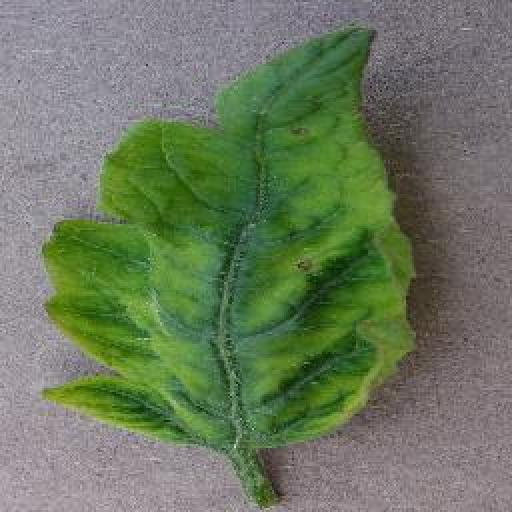Yellow Leaf Curl Virus: (38, 24, 422, 444)
